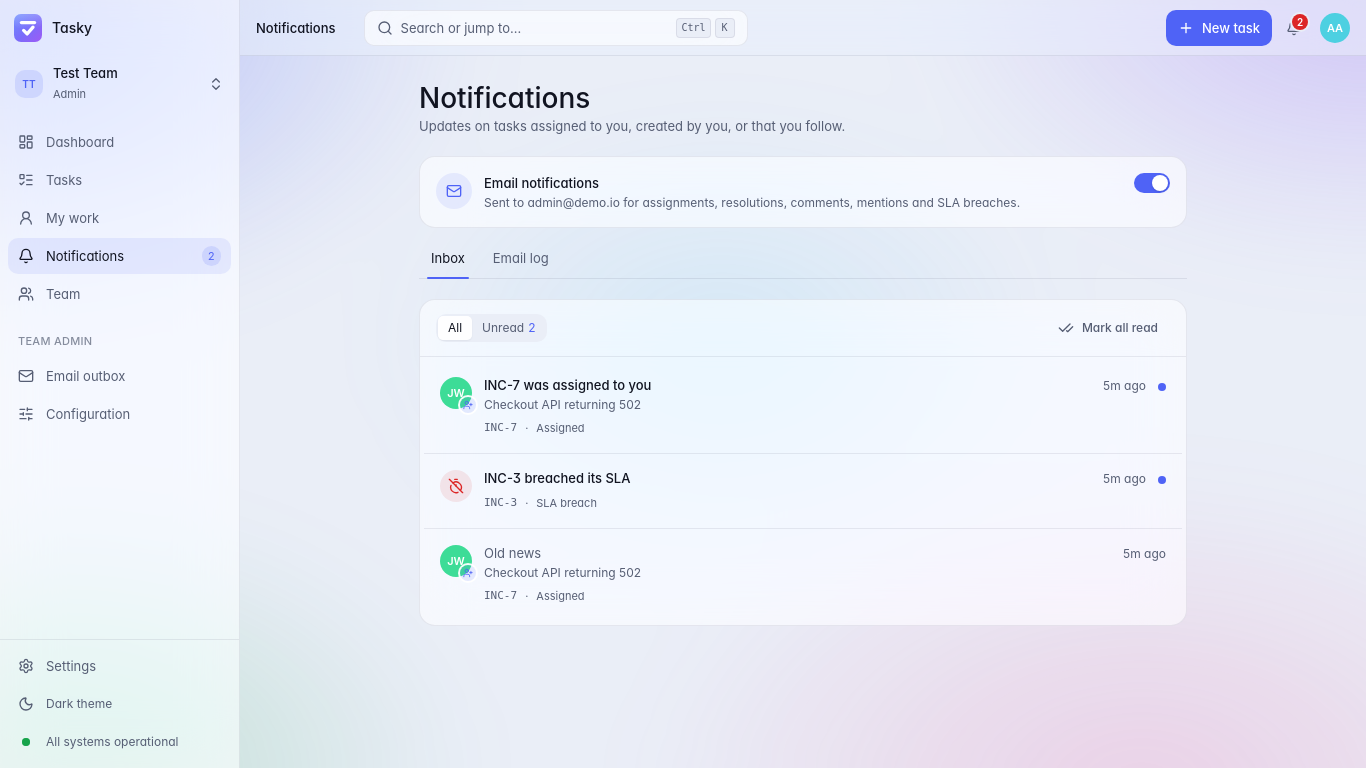
Test: notifications page › filters to unread and shows the email log
Click the button "Unread2" at (509, 328), box [472,316,546,340]
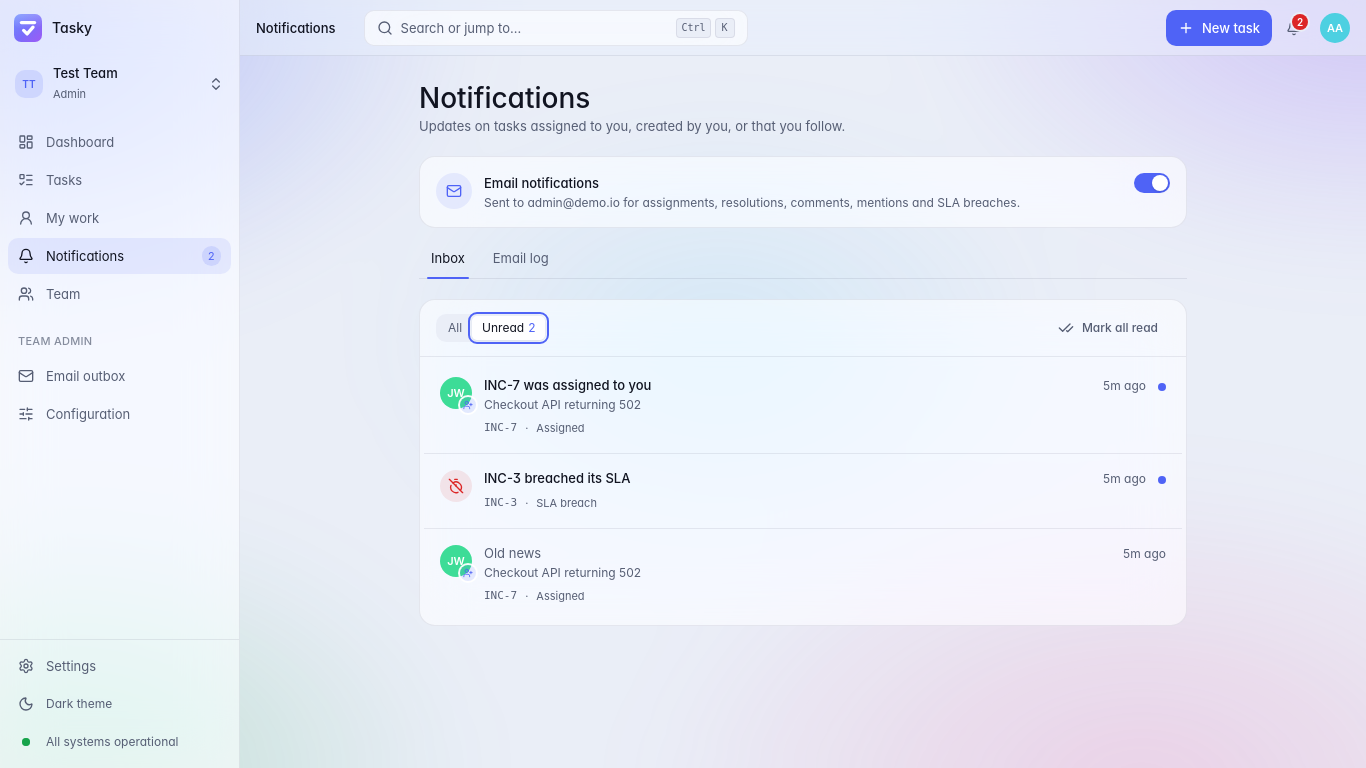
Click the tab "Email log" at (521, 263), box [481,248,561,278]
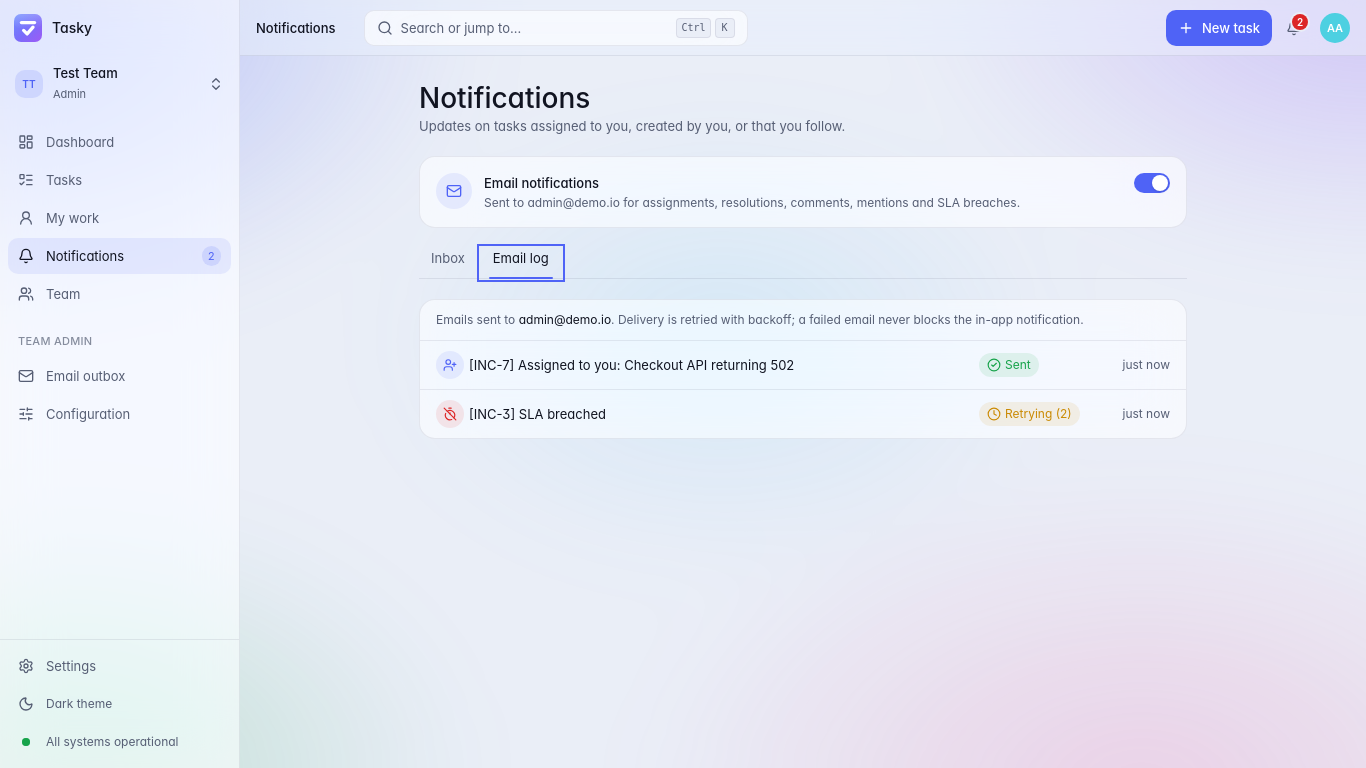
Result: the text "Sent" is shown at [979,352,1039,376]
Result: the text "Retrying (2)" is shown at [979,402,1080,426]
